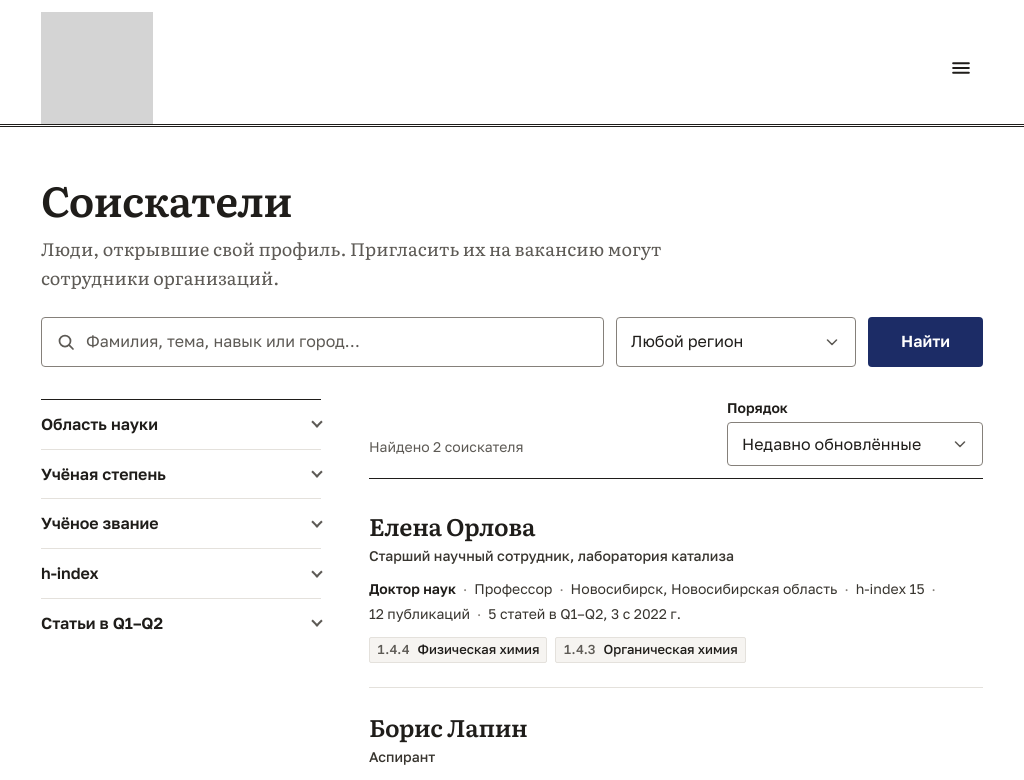
it: catalog page › searches by words on «Найти», writes them to the address and sorts by relevance
Check: the link "Елена Орлова" is shown, box [369,508,535,543]
In the search field named "Кого ищете": [323, 342] box [42,318,603,366], type "  катализ "
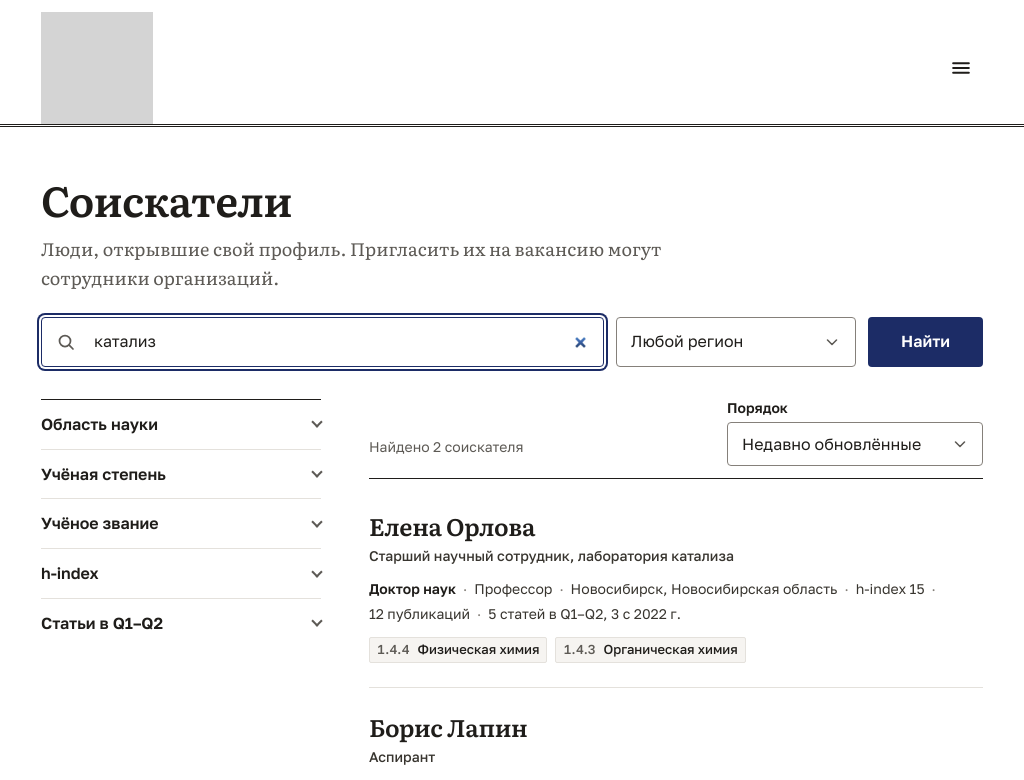
Click the button "Найти": [926, 342] box [868,317,983,367]
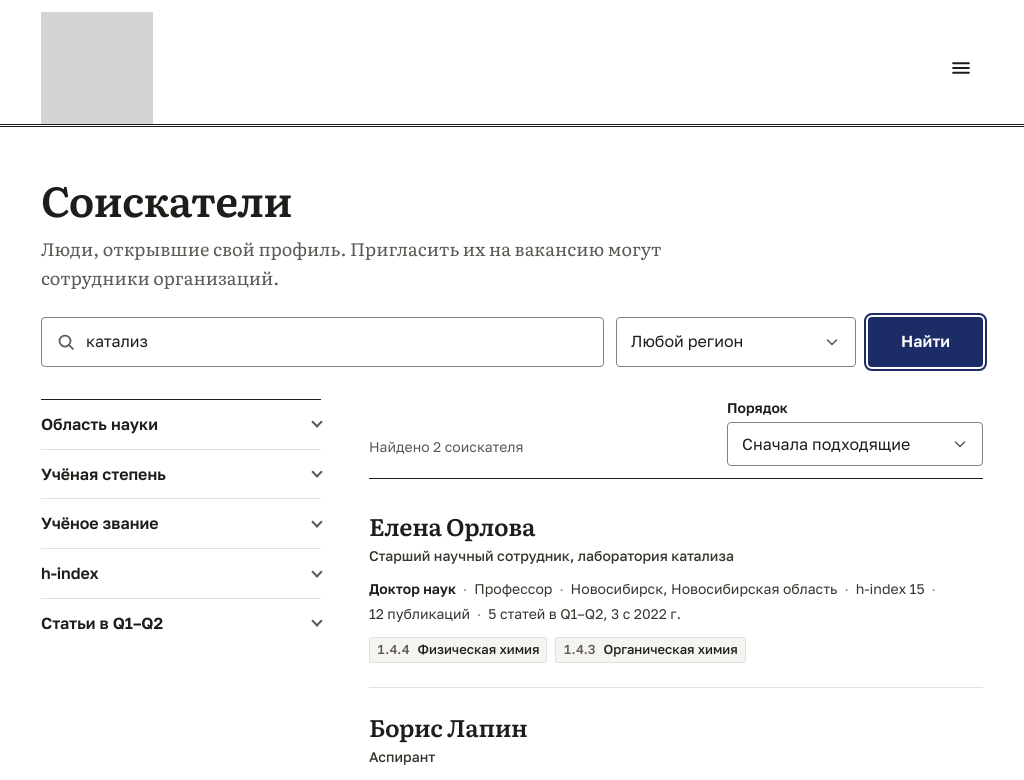
Check: the dropdown labelled "Порядок" shows "Сначала подходящие", box [727,422,983,466]
